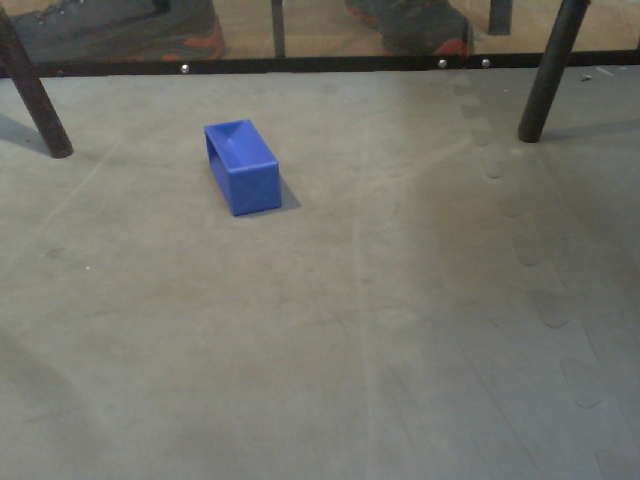BlueSample: (198, 116, 287, 222)
